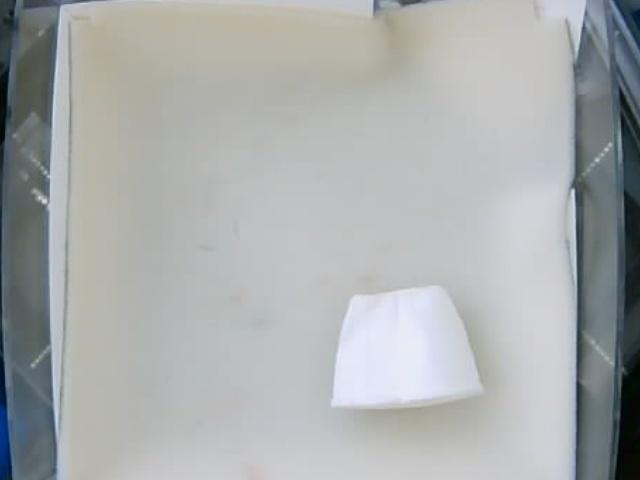Cup: (332, 282, 483, 413)
